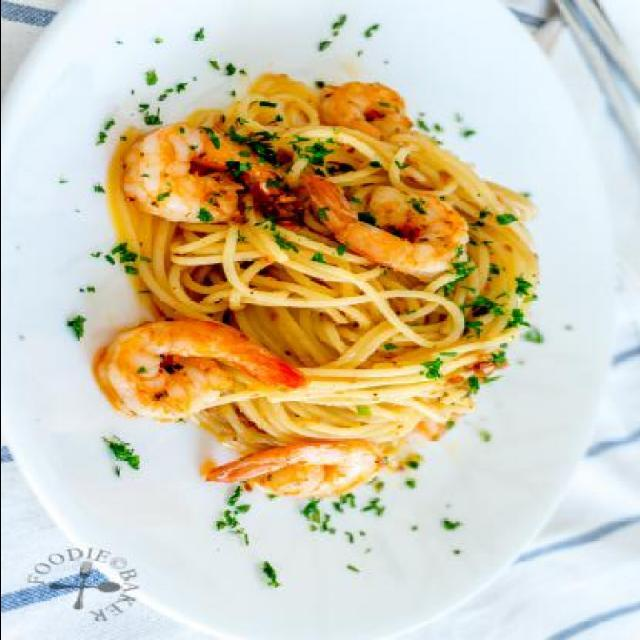Oil pasta: (74, 62, 592, 533)
